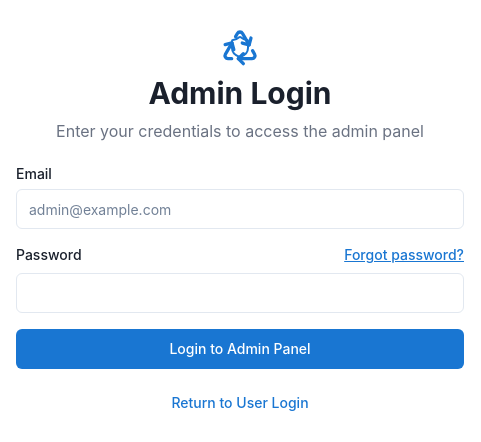
Test: AdminLoginPage › shows validation error for invalid email
In the field labelled "Email": point(240, 209) [16,189,464,229], type "invalidemail"
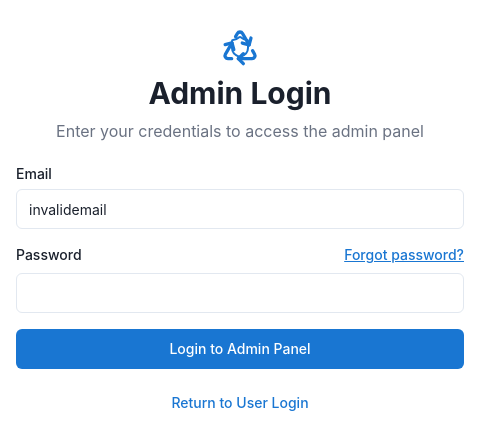
In the password field labelled "Password": point(240, 293) [16,273,464,313], type "validpassword"
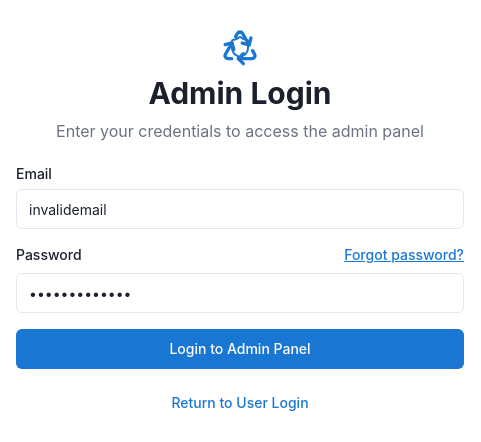
Click the button "Login to Admin Panel": point(240, 349) [16,329,464,369]
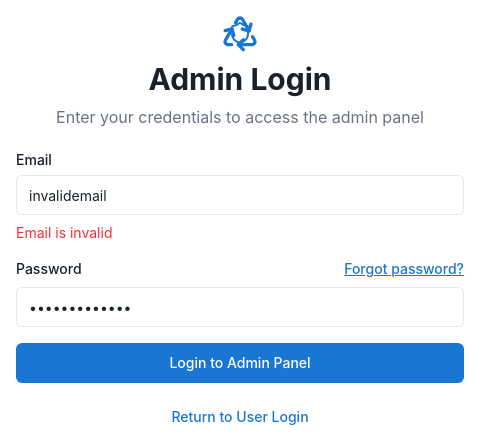
Expected: the text "Email is invalid" is shown, [16,224,112,241]
